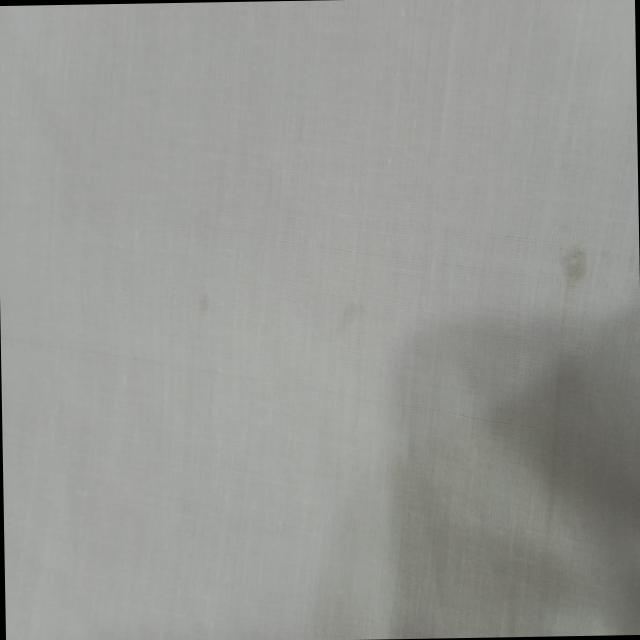stain: (329, 293, 396, 345), (556, 239, 594, 301), (192, 289, 220, 324)
